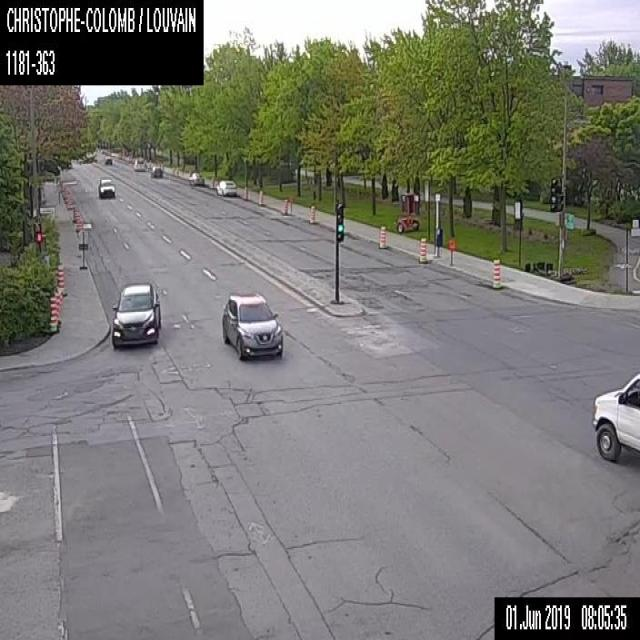construction: (395, 192, 419, 232), (78, 228, 88, 268), (57, 262, 67, 296), (49, 296, 58, 332), (492, 256, 501, 289), (418, 235, 427, 261), (447, 237, 455, 264), (54, 292, 60, 327), (378, 223, 386, 248), (74, 211, 80, 233), (57, 292, 61, 323), (308, 204, 314, 223), (283, 196, 288, 215), (258, 187, 262, 206), (243, 184, 247, 200), (72, 206, 76, 222), (78, 218, 82, 229)
vehicle: (221, 291, 282, 361), (593, 369, 639, 460), (112, 281, 161, 348), (97, 176, 115, 196), (215, 178, 236, 195), (188, 172, 204, 185), (132, 157, 144, 171), (151, 164, 162, 176), (104, 155, 112, 164)
